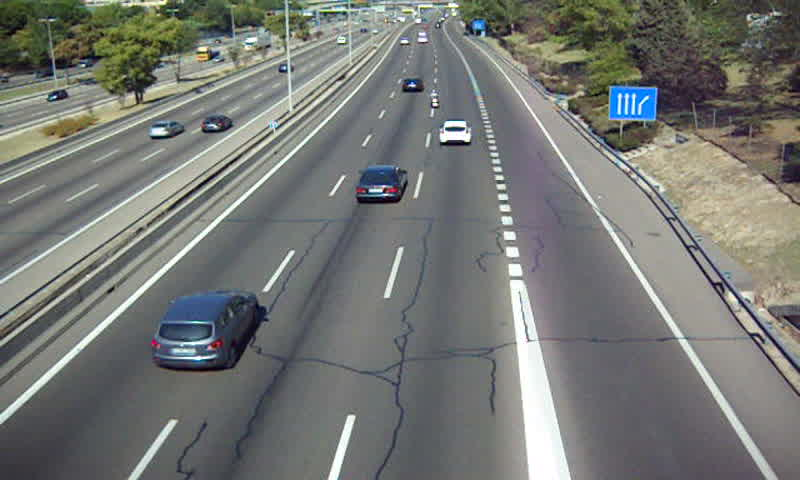car: (150, 293, 256, 373), (356, 165, 405, 203), (438, 120, 471, 145), (400, 76, 425, 93)
motorcycle: (428, 91, 441, 112)
